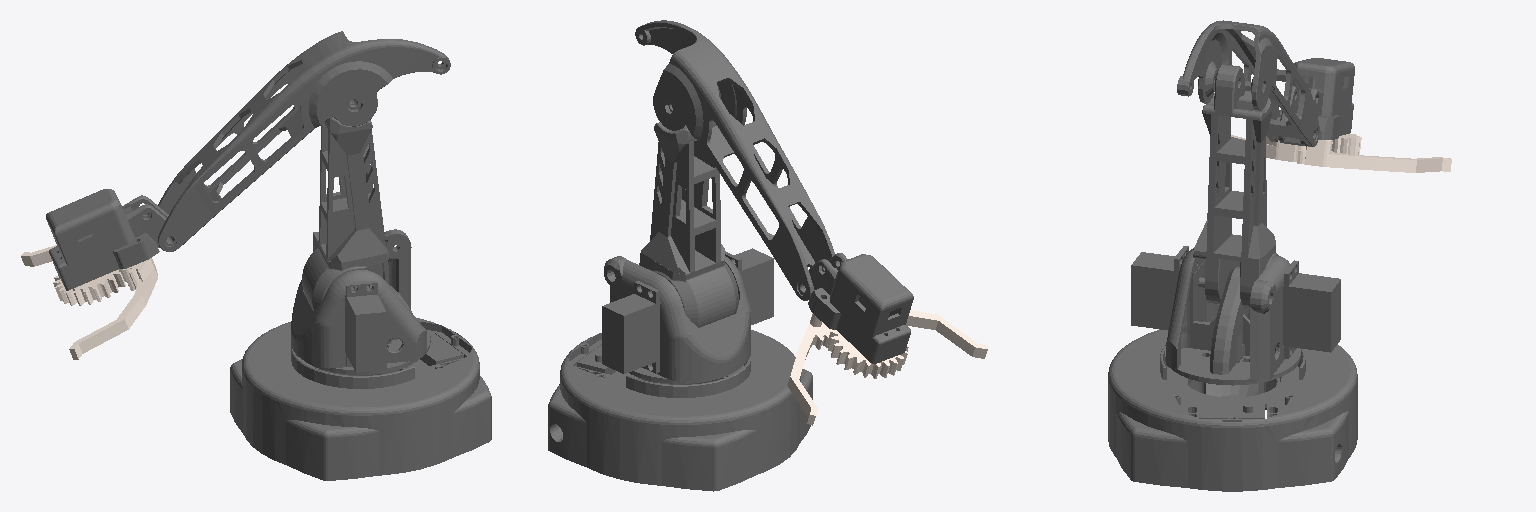
robot.urdf — SuArmT:
<?xml version="1.0" encoding="utf-8"?>
<!-- This URDF was automatically created by SolidWorks to URDF Exporter! Originally created by Stephen Brawner (brawner@gmail.com) 
     Commit Version: 1.6.0-4-g7f85cfe  Build Version: 1.6.7995.38578
     For more information, please see http://wiki.ros.org/sw_urdf_exporter -->
<robot
  name="SuArmT">
  <link
    name="base_link">
    <inertial>
      <origin
        xyz="-0.0530971491111352 -0.181552944439544 -0.246568639926266"
        rpy="0 0 0" />
      <mass
        value="0.293651530893789" />
      <inertia
        ixx="0.000568046016400762"
        ixy="6.90943148326391E-06"
        ixz="1.42837012826497E-06"
        iyy="0.000571559213356223"
        iyz="-1.31743193708887E-06"
        izz="0.00103032274010665" />
    </inertial>
    <visual>
      <origin
        xyz="0 0 0"
        rpy="0 0 0" />
      <geometry>
        <mesh
          filename="package://SuArmT/meshes/base_link.STL" />
      </geometry>
      <material
        name="">
        <color
          rgba="0.498039215686275 0.498039215686275 0.498039215686275 1" />
      </material>
    </visual>
    <collision>
      <origin
        xyz="0 0 0"
        rpy="0 0 0" />
      <geometry>
        <mesh
          filename="package://SuArmT/meshes/base_link.STL" />
      </geometry>
    </collision>
  </link>
  <link
    name="01">
    <inertial>
      <origin
        xyz="0.00265846356424784 -0.00133215884626428 0.0272481546974579"
        rpy="0 0 0" />
      <mass
        value="0.189438986392115" />
      <inertia
        ixx="0.000113431869552128"
        ixy="-5.64451862518995E-06"
        ixz="2.49559438919189E-06"
        iyy="0.0001107268395118"
        iyz="6.17366165756936E-06"
        izz="0.000119492587982596" />
    </inertial>
    <visual>
      <origin
        xyz="0 0 0"
        rpy="0 0 0" />
      <geometry>
        <mesh
          filename="package://SuArmT/meshes/01.STL" />
      </geometry>
      <material
        name="">
        <color
          rgba="0.498039215686275 0.498039215686275 0.498039215686275 1" />
      </material>
    </visual>
    <collision>
      <origin
        xyz="0 0 0"
        rpy="0 0 0" />
      <geometry>
        <mesh
          filename="package://SuArmT/meshes/01.STL" />
      </geometry>
    </collision>
  </link>
  <joint
    name="01"
    type="revolute">
    <origin
      xyz="-0.0571064065866175 -0.180872363273024 -0.220242791058023"
      rpy="0 0 2.83197511584815" />
    <parent
      link="base_link" />
    <child
      link="01" />
    <axis
      xyz="0 0 1" />
    <limit
      lower="-1.3"
      upper="2"
      effort="0"
      velocity="0" />
  </joint>
  <link
    name="02">
    <inertial>
      <origin
        xyz="0.0115047248501354 -0.00810709798750053 0.051589588786128"
        rpy="0 0 0" />
      <mass
        value="0.111576084638764" />
      <inertia
        ixx="0.000234483161114486"
        ixy="-8.57451004887965E-07"
        ixz="6.29463949966311E-06"
        iyy="0.00023331811204117"
        iyz="-8.92179194748288E-06"
        izz="3.04539911034034E-05" />
    </inertial>
    <visual>
      <origin
        xyz="0 0 0"
        rpy="0 0 0" />
      <geometry>
        <mesh
          filename="package://SuArmT/meshes/02.STL" />
      </geometry>
      <material
        name="">
        <color
          rgba="0.498039215686275 0.498039215686275 0.498039215686275 1" />
      </material>
    </visual>
    <collision>
      <origin
        xyz="0 0 0"
        rpy="0 0 0" />
      <geometry>
        <mesh
          filename="package://SuArmT/meshes/02.STL" />
      </geometry>
    </collision>
  </link>
  <joint
    name="02"
    type="revolute">
    <origin
      xyz="-0.00338008664788971 0.0067820705615555 0.0460000000000001"
      rpy="0 0 0" />
    <parent
      link="01" />
    <child
      link="02" />
    <axis
      xyz="0 -1 0" />
    <limit
      lower="-0.5"
      upper="0"
      effort="0"
      velocity="0" />
  </joint>
  <link
    name="03">
    <inertial>
      <origin
        xyz="0.0403125325245319 0.00153563322820774 -0.0081567935813986"
        rpy="0 0 0" />
      <mass
        value="0.0550849242755392" />
      <inertia
        ixx="6.3486228520809E-05"
        ixy="6.15236365966553E-06"
        ixz="7.22353558112642E-05"
        iyy="0.000183226293872354"
        iyz="-2.72290368246727E-06"
        izz="0.000138238474076084" />
    </inertial>
    <visual>
      <origin
        xyz="0 0 0"
        rpy="0 0 0" />
      <geometry>
        <mesh
          filename="package://SuArmT/meshes/03.STL" />
      </geometry>
      <material
        name="">
        <color
          rgba="0.498039215686275 0.498039215686275 0.498039215686275 1" />
      </material>
    </visual>
    <collision>
      <origin
        xyz="0 0 0"
        rpy="0 0 0" />
      <geometry>
        <mesh
          filename="package://SuArmT/meshes/03.STL" />
      </geometry>
    </collision>
  </link>
  <joint
    name="03"
    type="revolute">
    <origin
      xyz="0.0108480193677558 -0.00545917430644105 0.134996351042998"
      rpy="0 0.111242962039174 0" />
    <parent
      link="02" />
    <child
      link="03" />
    <axis
      xyz="0 -1 0" />
    <limit
      lower="-0.3"
      upper="1"
      effort="0"
      velocity="0" />
  </joint>
  <link
    name="04">
    <inertial>
      <origin
        xyz="0.0301276790093809 -8.91923334647715E-06 0.0189630827351482"
        rpy="0 0 0" />
      <mass
        value="0.0402531816879038" />
      <inertia
        ixx="1.228558445044E-05"
        ixy="-9.50822319460619E-09"
        ixz="-5.38433194630375E-06"
        iyy="2.65878521080658E-05"
        iyz="9.14433319238472E-10"
        izz="2.27541238022531E-05" />
    </inertial>
    <visual>
      <origin
        xyz="0 0 0"
        rpy="0 0 0" />
      <geometry>
        <mesh
          filename="package://SuArmT/meshes/04.STL" />
      </geometry>
      <material
        name="">
        <color
          rgba="0.498039215686275 0.498039215686275 0.498039215686275 1" />
      </material>
    </visual>
    <collision>
      <origin
        xyz="0 0 0"
        rpy="0 0 0" />
      <geometry>
        <mesh
          filename="package://SuArmT/meshes/04.STL" />
      </geometry>
    </collision>
  </link>
  <joint
    name="04"
    type="revolute">
    <origin
      xyz="0.126298015351435 -0.000799999999999051 -0.0712306908452539"
      rpy="0 0.409886167684167 0" />
    <parent
      link="03" />
    <child
      link="04" />
    <axis
      xyz="0 -1 0" />
    <limit
      lower="-0.85"
      upper="0.5"
      effort="0"
      velocity="0" />
  </joint>
  <link
    name="05">
    <inertial>
      <origin
        xyz="2.77555756156289E-17 -2.77555756156289E-17 0.00500000000000002"
        rpy="0 0 0" />
      <mass
        value="0.0153521070888643" />
      <inertia
        ixx="2.24974194990283E-06"
        ixy="-1.42936809849163E-21"
        ixz="1.29040175558272E-21"
        iyy="2.24974194990283E-06"
        iyz="-4.2351647362715E-21"
        izz="4.24361544832459E-06" />
    </inertial>
    <visual>
      <origin
        xyz="0 0 0"
        rpy="0 0 0" />
      <geometry>
        <mesh
          filename="package://SuArmT/meshes/05.STL" />
      </geometry>
      <material
        name="">
        <color
          rgba="1 0.949019607843137 0.909803921568627 1" />
      </material>
    </visual>
    <collision>
      <origin
        xyz="0 0 0"
        rpy="0 0 0" />
      <geometry>
        <mesh
          filename="package://SuArmT/meshes/05.STL" />
      </geometry>
    </collision>
  </link>
  <joint
    name="05"
    type="revolute">
    <origin
      xyz="0.0549809608824896 0 -0.00506114079786674"
      rpy="0 -0.172063279324397 0" />
    <parent
      link="04" />
    <child
      link="05" />
    <axis
      xyz="0 0 -1" />
    <limit
      lower="-0.85"
      upper="0.5"
      effort="0"
      velocity="0" />
  </joint>
  <link
    name="06">
    <inertial>
      <origin
        xyz="0.0138852347763508 0.0151916879325929 0.00635485339552659"
        rpy="0 0 0" />
      <mass
        value="0.00878748583243155" />
      <inertia
        ixx="4.72138799965583E-06"
        ixy="-2.80323111635487E-06"
        ixz="1.85740267317673E-07"
        iyy="2.42028724397618E-06"
        iyz="3.46298383727567E-07"
        izz="6.81316188714295E-06" />
    </inertial>
    <visual>
      <origin
        xyz="0 0 0"
        rpy="0 0 0" />
      <geometry>
        <mesh
          filename="package://SuArmT/meshes/06.STL" />
      </geometry>
      <material
        name="">
        <color
          rgba="1 0.949019607843137 0.909803921568627 1" />
      </material>
    </visual>
    <collision>
      <origin
        xyz="0 0 0"
        rpy="0 0 0" />
      <geometry>
        <mesh
          filename="package://SuArmT/meshes/06.STL" />
      </geometry>
    </collision>
  </link>
  <joint
    name="06"
    type="revolute">
    <origin
      xyz="0.0226604478767277 0.0139999999999982 -0.0163617842079428"
      rpy="0.00790172500636039 -0.171883538862549 -0.0461666685391416" />
    <parent
      link="04" />
    <child
      link="06" />
    <axis
      xyz="0 0 1" />
    <limit
      lower="-0.85"
      upper="0.5"
      effort="0"
      velocity="0" />
  </joint>
  <link
    name="07">
    <inertial>
      <origin
        xyz="0.019123424392596 -0.0177235877465371 0.00457621875695141"
        rpy="0 0 0" />
      <mass
        value="0.00647217744856026" />
      <inertia
        ixx="3.10871255703172E-06"
        ixy="2.58386188181312E-06"
        ixz="7.69744545540528E-08"
        iyy="2.62710925450106E-06"
        iyz="-7.75789243970793E-08"
        izz="5.60892692551295E-06" />
    </inertial>
    <visual>
      <origin
        xyz="0 0 0"
        rpy="0 0 0" />
      <geometry>
        <mesh
          filename="package://SuArmT/meshes/07.STL" />
      </geometry>
      <material
        name="">
        <color
          rgba="1 0.949019607843137 0.909803921568627 1" />
      </material>
    </visual>
    <collision>
      <origin
        xyz="0 0 0"
        rpy="0 0 0" />
      <geometry>
        <mesh
          filename="package://SuArmT/meshes/07.STL" />
      </geometry>
    </collision>
  </link>
  <joint
    name="07"
    type="revolute">
    <origin
      xyz="0.0227460556388097 -0.0139999999999925 -0.0168544010073608"
      rpy="0.0079017250063604 -0.171883538862555 -0.0461666685391416" />
    <parent
      link="04" />
    <child
      link="07" />
    <axis
      xyz="0 0 -1" />
    <limit
      lower="-3.14"
      upper="3.14"
      effort="0"
      velocity="0" />
  </joint>
</robot>

--- What the picture shows (computed from the rendered views, not written in the file) ---
The picture shows the robot from 3 angles, left to right: view 1: azimuth 30°, elevation 25°; view 2: azimuth 150°, elevation 25°; view 3: azimuth 270°, elevation 25°; orthographic projection.
Robot: SuArmT — 8 links, 7 joints (7 revolute); root link base_link; default pose: all joints at 0.
Links seen in each view (by area): view 1: base_link, 03, 01, 02, 04, 06, 05; view 2: base_link, 03, 01, 02, 04, 07, 05, 06; view 3: base_link, 01, 02, 03, 04, 07, 06.
Link boxes in pixels (bbox=[...]): base_link: bbox=[230, 317, 491, 480]; 03: bbox=[157, 31, 450, 251]; 01: bbox=[291, 229, 430, 374]; 02: bbox=[302, 99, 389, 310]; 04: bbox=[46, 189, 172, 290]; 06: bbox=[69, 258, 157, 359]; 05: bbox=[53, 269, 126, 305]; base_link: bbox=[548, 330, 812, 491]; 03: bbox=[635, 20, 834, 300]; 01: bbox=[602, 248, 773, 383]; 02: bbox=[639, 121, 738, 327]; 04: bbox=[804, 253, 913, 363]; 07: bbox=[787, 314, 831, 425]; 05: bbox=[827, 329, 908, 378]; 06: bbox=[906, 310, 987, 358]; base_link: bbox=[1108, 329, 1357, 491]; 01: bbox=[1131, 246, 1340, 385]; 02: bbox=[1193, 64, 1278, 308]; 03: bbox=[1177, 20, 1319, 146]; 04: bbox=[1278, 58, 1354, 146]; 07: bbox=[1297, 140, 1451, 172]; 06: bbox=[1231, 135, 1305, 161].
Size in the robot's own frame: 0.2911 by 0.2067 by 0.2729 metres.
Meshes: 8 distinct files referenced, 8 mesh visuals loaded (8 binary STL).
